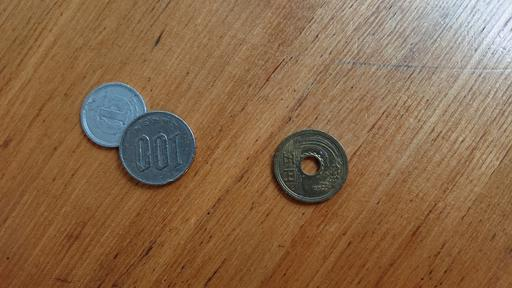100yen: (120, 112, 196, 185)
1yen: (79, 82, 146, 148)
5yen: (272, 130, 349, 205)
